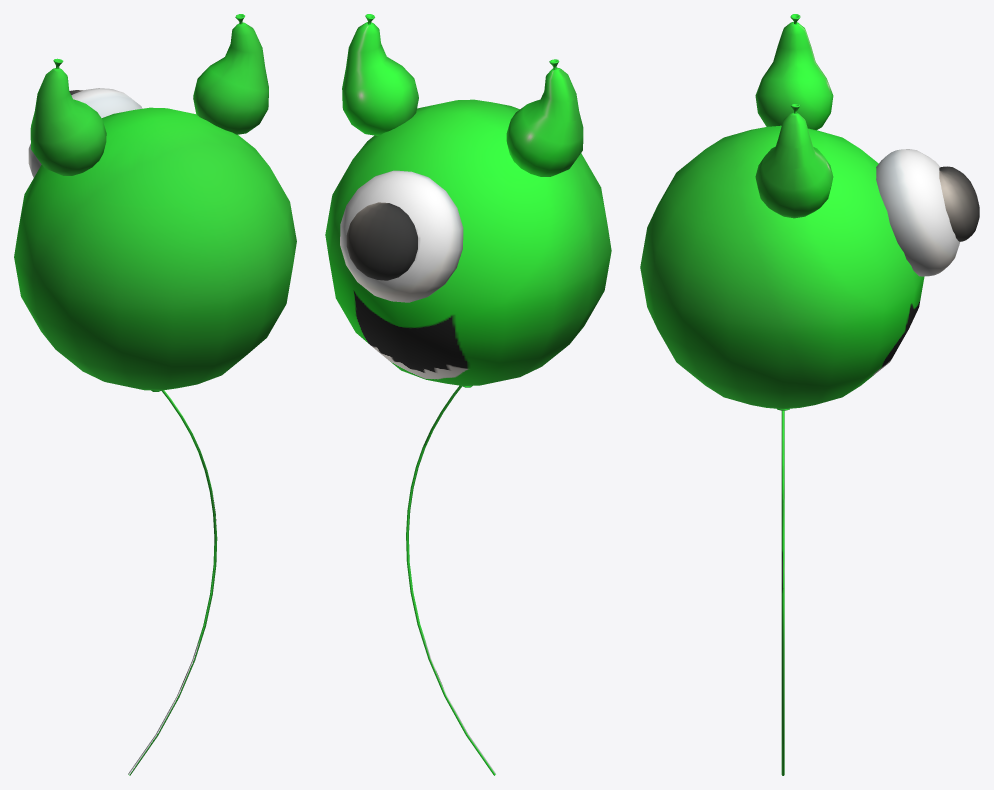
File: quai_nho1.fbx
3 views of the same model, side by side, from view 1: azimuth 30°, elevation 25°; view 2: azimuth 150°, elevation 25°; view 3: azimuth 270°, elevation 25° (orthographic).
Parts seen in each view (by area): view 1: quainho_1; view 2: quainho_1; view 3: quainho_1.
Boxes of the visible parts, x1,y1,x2,y2 form: quainho_1: [14, 14, 296, 775]; quainho_1: [325, 14, 611, 775]; quainho_1: [640, 14, 979, 775].
Size of the model in its own units: 200 by 562 by 238.
Materials: 1 (1 with a texture image).
